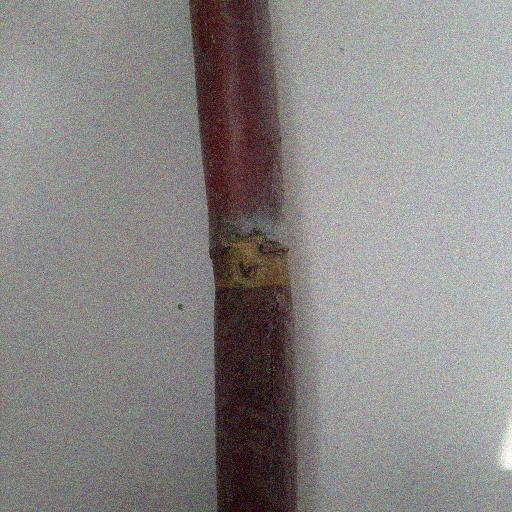Bud: (236, 251, 260, 280)
